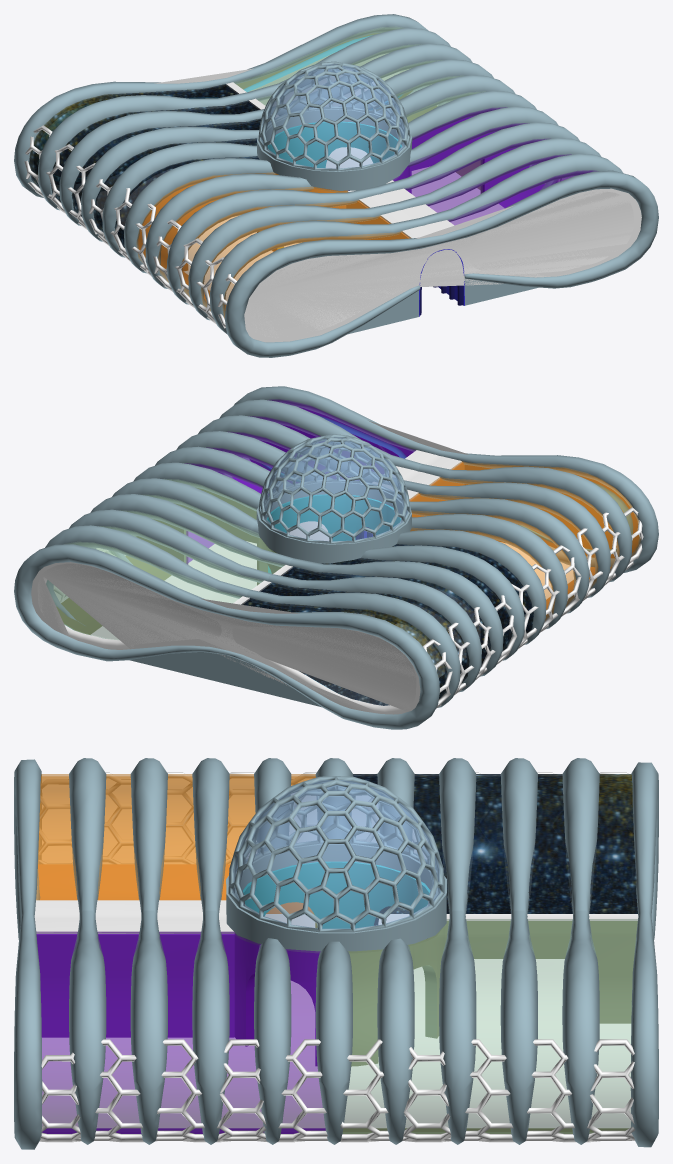
Rendered from VR building8.fbx.
The picture shows the model from 3 angles, top to bottom: view 1: azimuth 30°, elevation 25°; view 2: azimuth 150°, elevation 25°; view 3: azimuth 270°, elevation 25°; orthographic projection. The views are drawn at different scales.
Visible parts, largest first — view 1: Spines.001, Front Back facade, Ceiling glass walls, Spine Front.001, Dome glass, Dome wireframe, Spine Back.002, HoneyComb, Dome Metal rim, Center circular room, Ceiling Centerline wall, Interior Walls.001 (+2 smaller); view 2: Spines.001, Front Back facade, Ceiling glass walls, Spine Back.002, Dome glass, Dome wireframe, Spine Front.001, HoneyComb, Dome Metal rim, Center circular room, Front Back Windows, Side curved walls (+4 smaller); view 3: Spines.001, Ceiling glass walls, HoneyComb, Dome glass, Dome wireframe, Center circular room, Side curved walls, Spine Front.001, Front hallway Walls.001, Spine Back.002, Dome Metal rim, Interior Walls (+1 smaller).
Boxes of the visible parts, box(x1,y1,x2,y2) form: Spines.001: box(38, 28, 622, 334); Front Back facade: box(34, 33, 641, 342); Ceiling glass walls: box(29, 26, 596, 317); Spine Front.001: box(224, 170, 658, 357); Dome glass: box(261, 64, 407, 168); Dome wireframe: box(258, 61, 410, 171); Spine Back.002: box(14, 14, 429, 198); HoneyComb: box(24, 125, 560, 328); Dome Metal rim: box(257, 108, 412, 190); Center circular room: box(267, 121, 409, 251); Ceiling Centerline wall: box(225, 82, 454, 238); Interior Walls.001: box(407, 116, 529, 193); Spines.001: box(45, 399, 632, 707); Front Back facade: box(31, 407, 638, 714); Ceiling glass walls: box(54, 399, 640, 698); Spine Back.002: box(14, 544, 439, 729); Dome glass: box(261, 437, 407, 541); Dome wireframe: box(258, 434, 410, 543); Spine Front.001: box(234, 386, 658, 572); HoneyComb: box(54, 507, 643, 708); Dome Metal rim: box(256, 481, 411, 563); Center circular room: box(258, 494, 400, 623); Front Back Windows: box(46, 425, 616, 640); Side curved walls: box(56, 477, 611, 686); Spines.001: box(69, 758, 599, 1144); Ceiling glass walls: box(36, 774, 637, 1133); HoneyComb: box(38, 772, 634, 1142); Dome glass: box(232, 780, 440, 929); Dome wireframe: box(228, 776, 444, 932); Center circular room: box(234, 861, 444, 1066); Side curved walls: box(38, 864, 632, 1133); Spine Front.001: box(14, 759, 42, 1149); Front hallway Walls.001: box(36, 934, 234, 1037); Spine Back.002: box(630, 762, 658, 1147); Dome Metal rim: box(226, 843, 446, 951); Interior Walls: box(444, 921, 637, 1023).
Size of the model in its own units: 3000 by 1132 by 2719.
